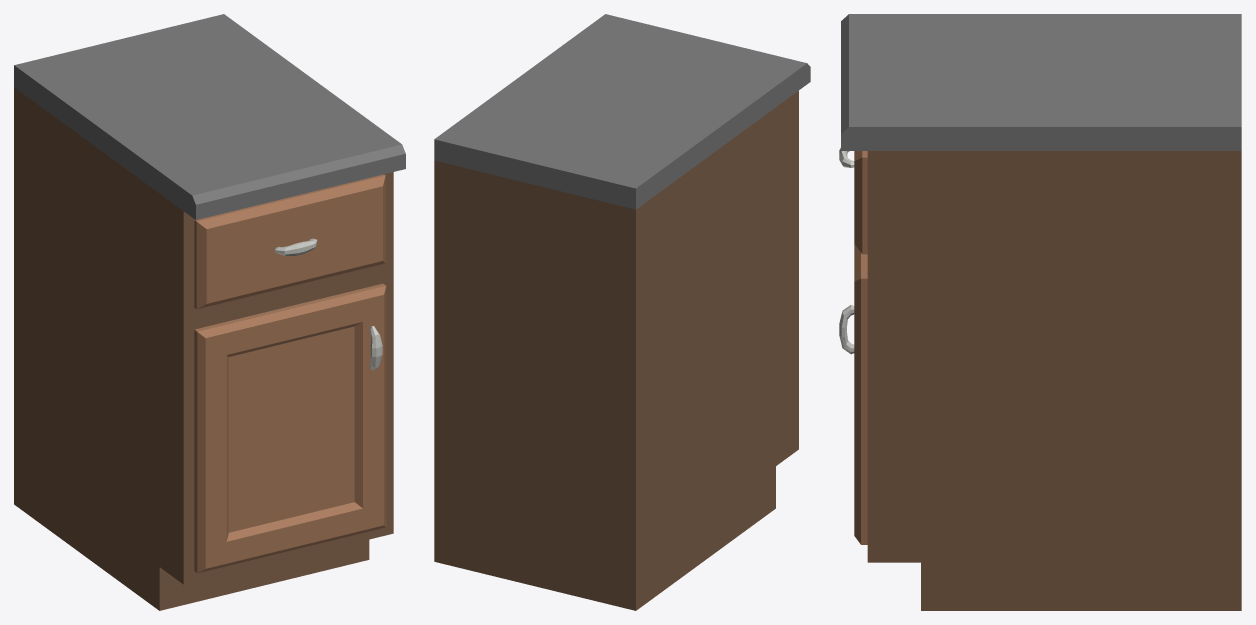
Rendered from Structure_Bathroom_Cabinet_Half.obj.
3 renders of one model, left to right at view 1: azimuth 30°, elevation 25°; view 2: azimuth 150°, elevation 25°; view 3: azimuth 270°, elevation 25°, orthographic. The views are drawn at different scales.
Visible parts, largest first — view 1: object2, object4, object1, object5; view 2: object2, object1; view 3: object2, object1, object4, object5.
Part boxes in pixels (<box>): object2: <box>14,87,393,610</box>; object4: <box>194,283,386,573</box>; object1: <box>14,14,405,219</box>; object5: <box>194,174,385,309</box>; object2: <box>434,90,798,610</box>; object1: <box>434,14,810,209</box>; object2: <box>867,151,1241,610</box>; object1: <box>841,14,1241,150</box>; object4: <box>854,244,867,544</box>; object5: <box>839,148,867,254</box>.
Size of the model in its own units: 0.5 by 1 by 0.7531.
